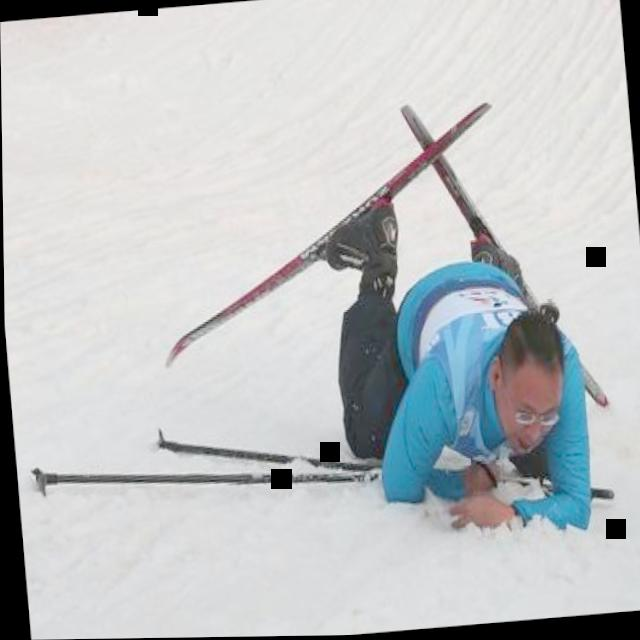Fall-Detected: (292, 141, 632, 570)
